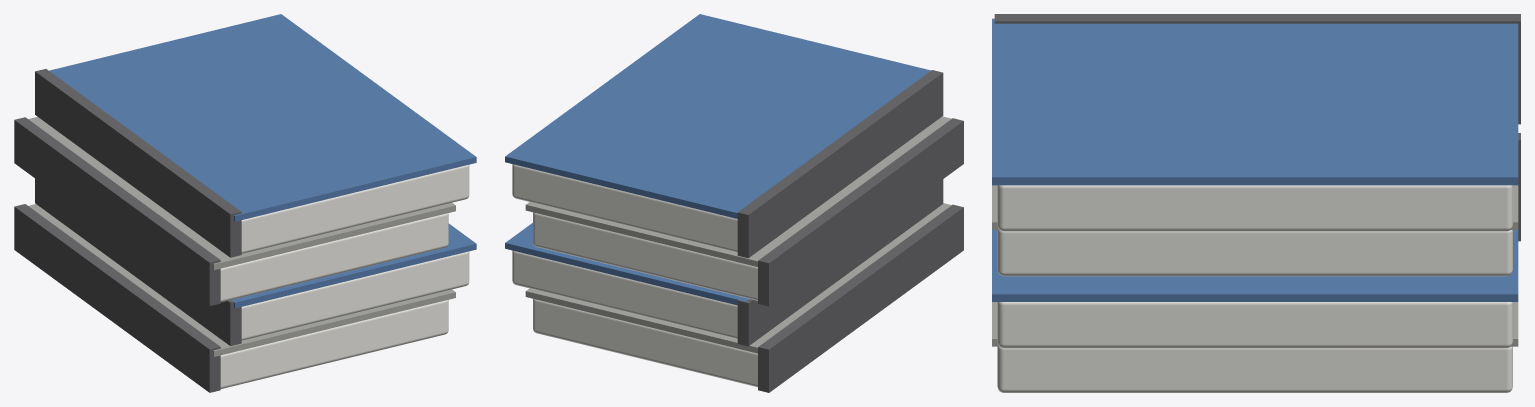
The model's file is prison-complex-builder-book-stack-5939552a__25702.glb.
3 renders of one model, left to right at view 1: azimuth 30°, elevation 25°; view 2: azimuth 150°, elevation 25°; view 3: azimuth 270°, elevation 25°, orthographic. The views are drawn at different scales.
Parts seen in each view (by area): view 1: book-stack; view 2: book-stack; view 3: book-stack.
Part boxes in pixels (left/top/right/bottom): book-stack: left=14, top=14, right=476, bottom=392; book-stack: left=505, top=14, right=963, bottom=392; book-stack: left=992, top=14, right=1520, bottom=392.
Bounding box in the file's own units: 0.1925 × 0.1212 × 0.2462.
